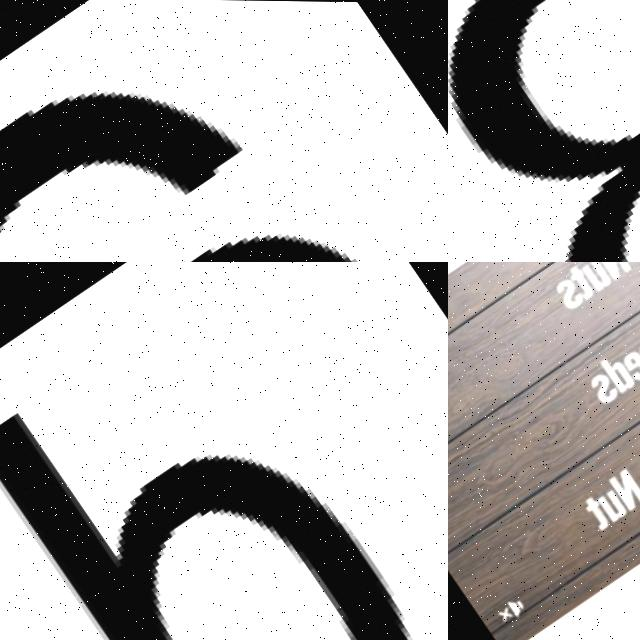3: (448, 0, 640, 262)
A: (0, 0, 448, 262)
D: (0, 280, 448, 640), (599, 351, 636, 393)
E: (620, 347, 640, 382)
N: (607, 466, 640, 510), (591, 262, 633, 280)
S: (552, 274, 586, 312), (587, 369, 621, 405)
T: (566, 262, 599, 300), (582, 494, 614, 530)
U: (597, 487, 629, 523), (581, 262, 615, 292)
